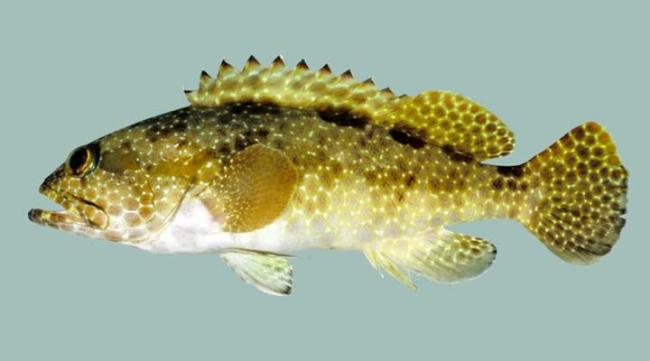fish: (28, 54, 630, 296)
